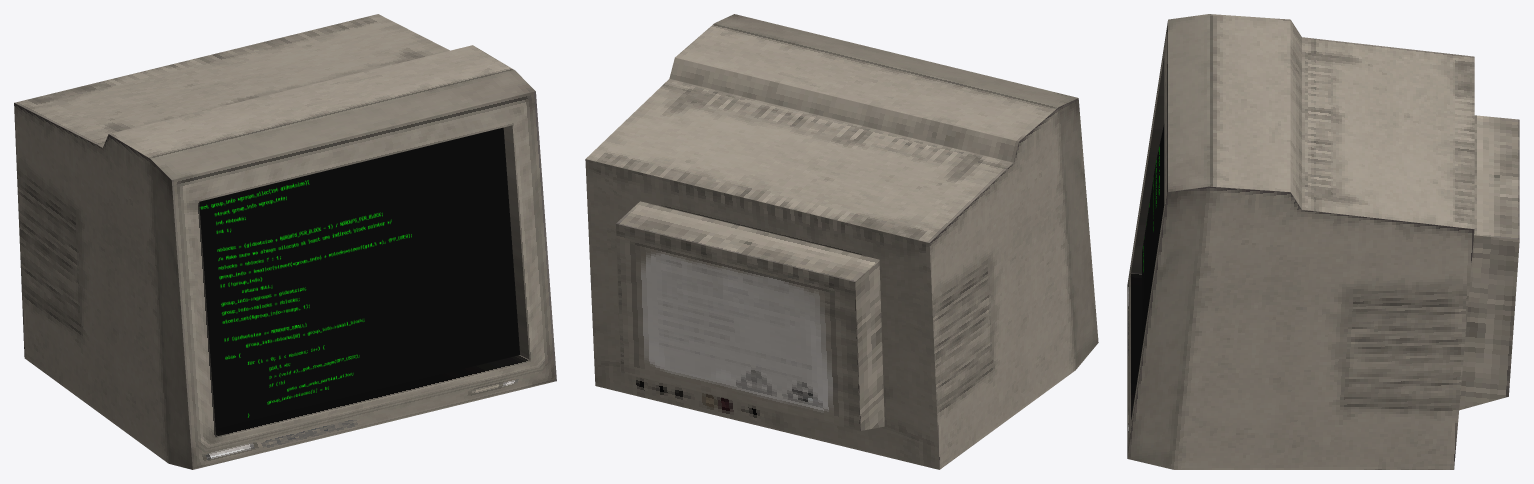
Rendered from old_monitor_with_screen.glb.
3 renders of one model, left to right at view 1: azimuth 30°, elevation 25°; view 2: azimuth 150°, elevation 25°; view 3: azimuth 270°, elevation 25°, orthographic. The views are drawn at different scales.
Parts seen in each view (by area): view 1: Cube.003; view 2: Cube.003; view 3: Cube.003.
Part boxes in pixels (box(x1,y1,x2,y2)): Cube.003: box(14, 14, 556, 469); Cube.003: box(585, 14, 1098, 469); Cube.003: box(1127, 14, 1519, 469).
Size of the model in its own units: 2 by 1.53 by 1.92.
2 materials, 2 textured.
